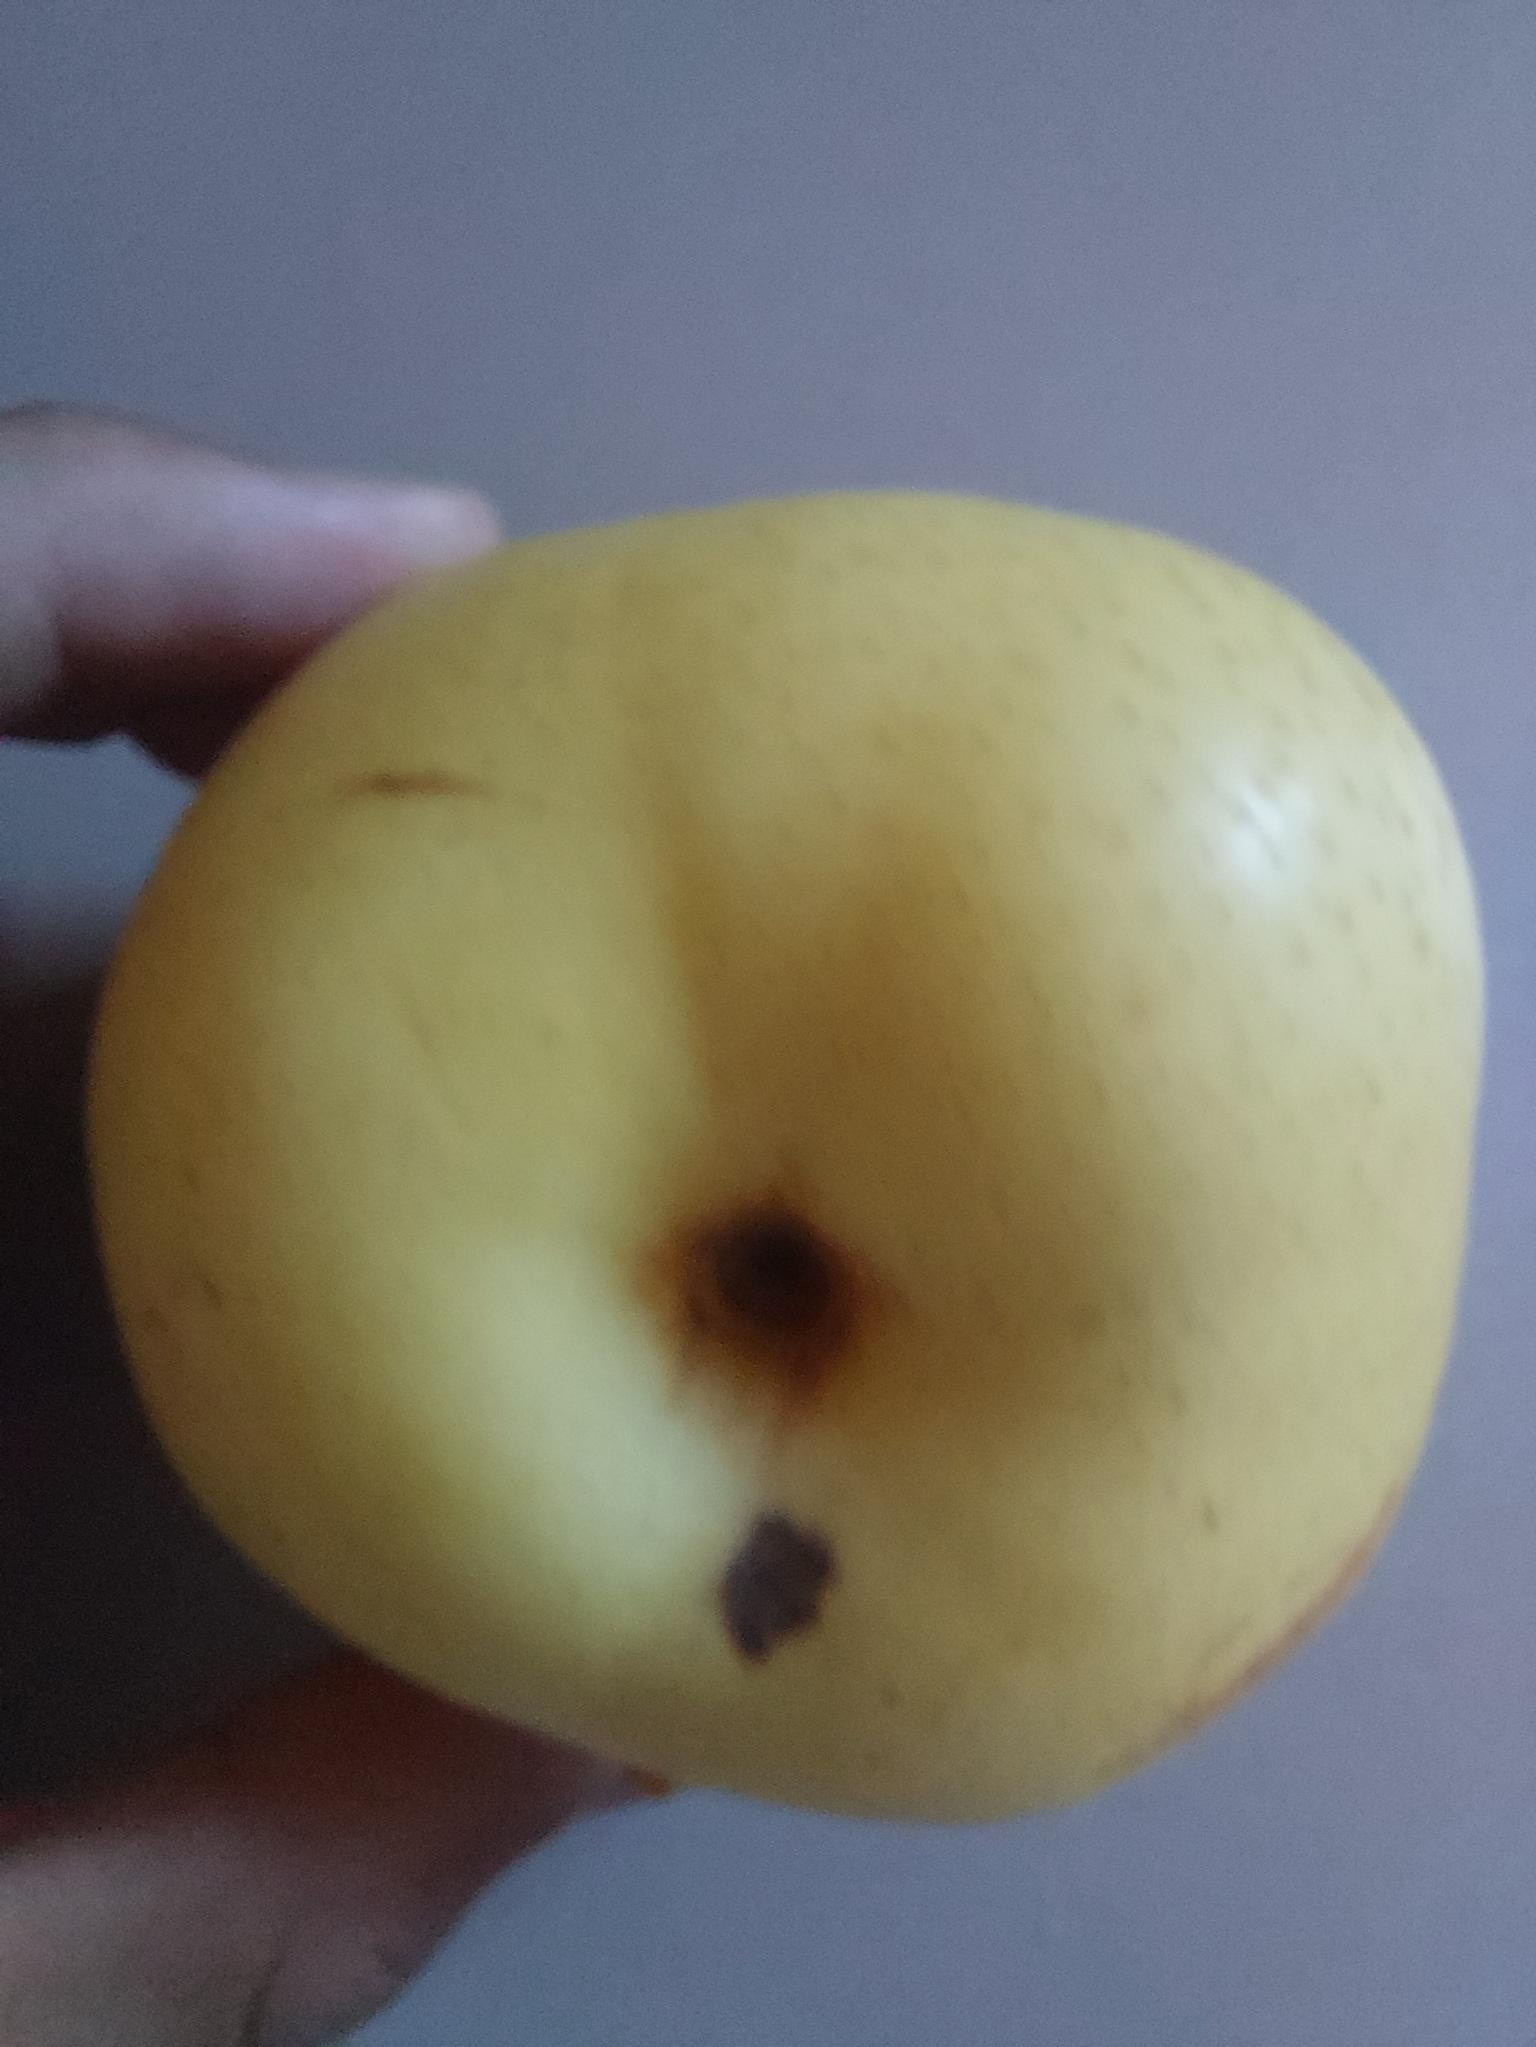Good Pear: (95, 494, 1468, 1829)
